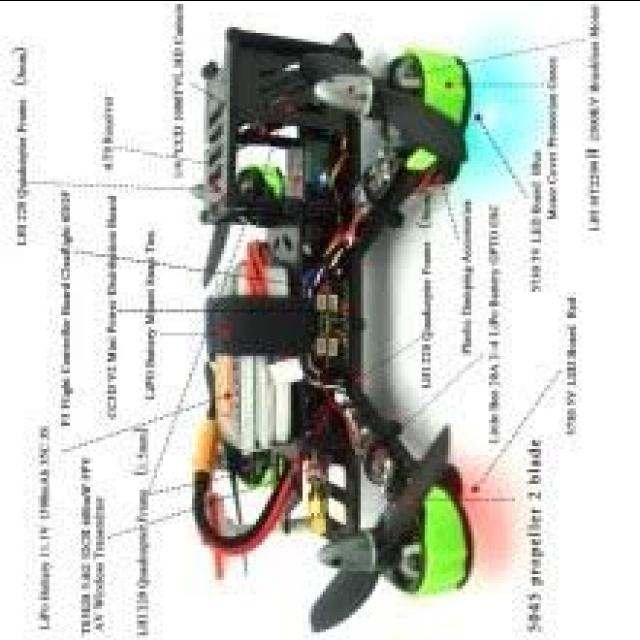drone: (185, 34, 503, 622)
